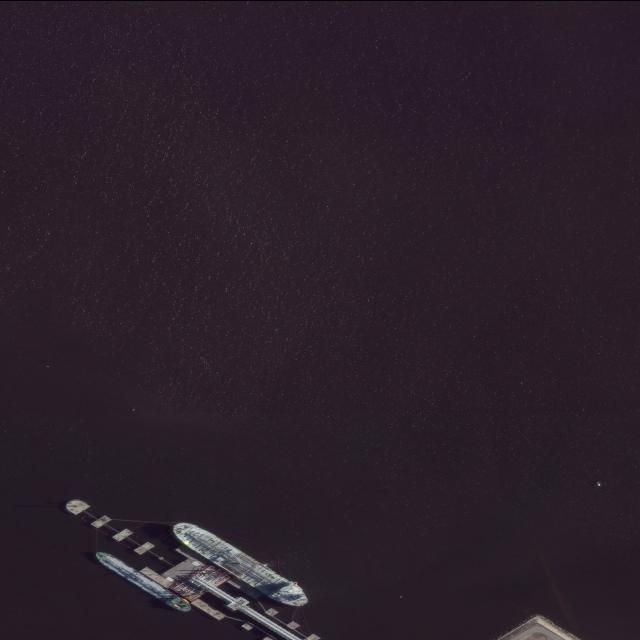ship: (172, 520, 310, 606), (95, 550, 192, 611), (596, 481, 600, 485)
